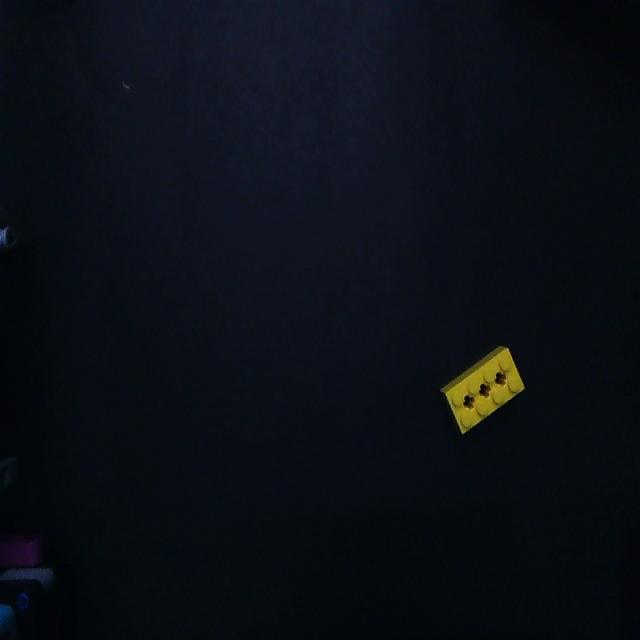lego_brick: (441, 347, 523, 433)
